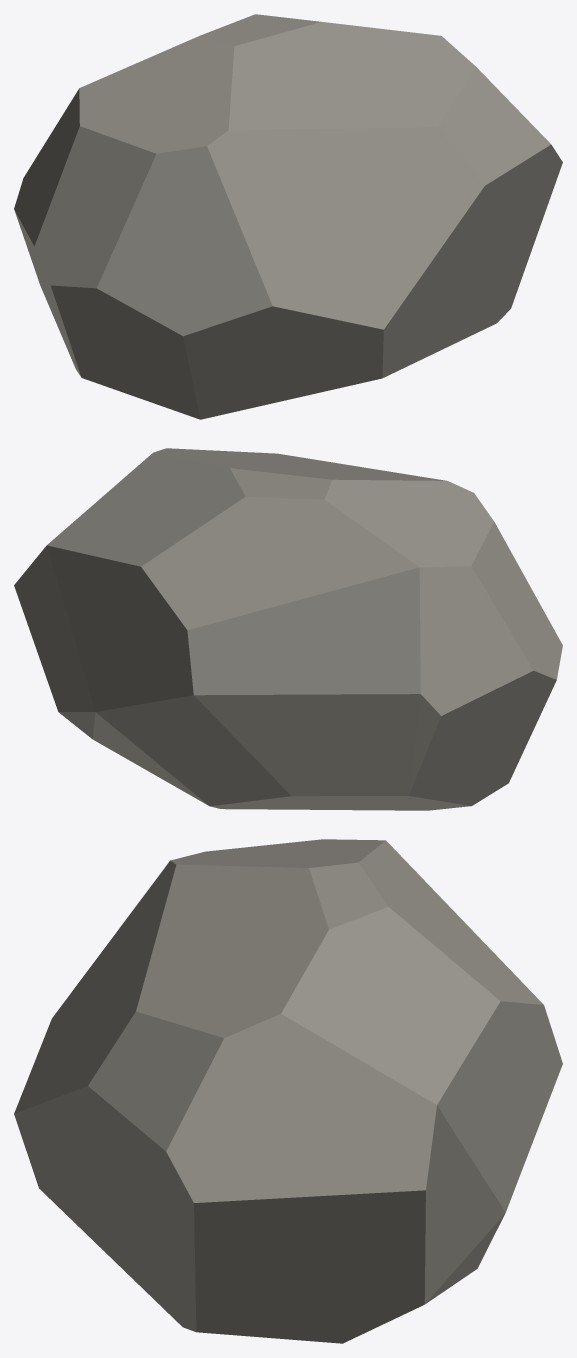
File: Rock_Round_m_08.fbx
The picture shows the model from 3 angles, top to bottom: view 1: azimuth 30°, elevation 25°; view 2: azimuth 150°, elevation 25°; view 3: azimuth 270°, elevation 25°; orthographic projection. The views are drawn at different scales.
Parts seen in each view (by area): view 1: Rock_Round_m_08; view 2: Rock_Round_m_08; view 3: Rock_Round_m_08.
Boxes of the visible parts, x1,y1,x2,y2 form: Rock_Round_m_08: (14,14,562,419); Rock_Round_m_08: (14,448,562,810); Rock_Round_m_08: (14,839,562,1343).
Size of the model in its own units: 156 by 96.43 by 130.
